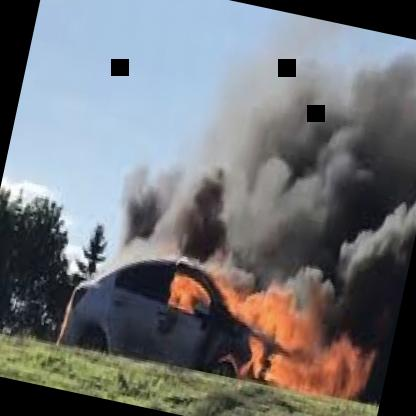fire: (56, 39, 416, 413)
